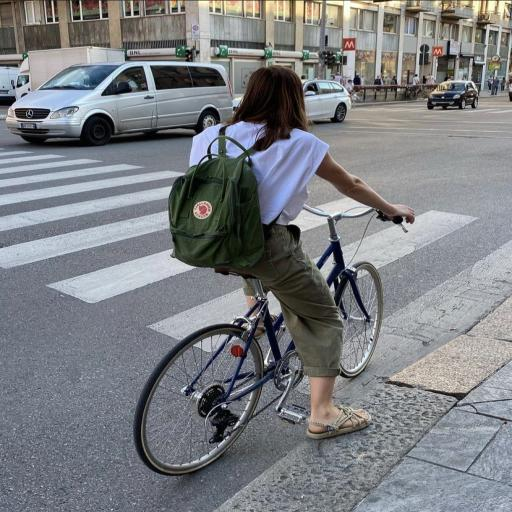bag: (134, 279, 307, 475), (405, 86, 427, 100), (350, 92, 362, 109)
bottle: (7, 61, 232, 145), (303, 80, 351, 122), (428, 81, 478, 109), (509, 88, 511, 101)
closet: (0, 151, 195, 303)
laptop: (224, 66, 414, 438), (491, 75, 500, 95), (345, 79, 354, 95), (354, 73, 361, 86), (374, 75, 383, 85), (427, 74, 435, 84), (412, 74, 419, 85), (334, 72, 341, 83), (390, 76, 398, 85), (501, 77, 506, 91), (488, 76, 492, 91), (301, 75, 306, 82), (422, 76, 426, 84), (444, 75, 449, 81), (448, 76, 453, 81), (330, 75, 334, 80)
phone: (319, 0, 326, 79)
